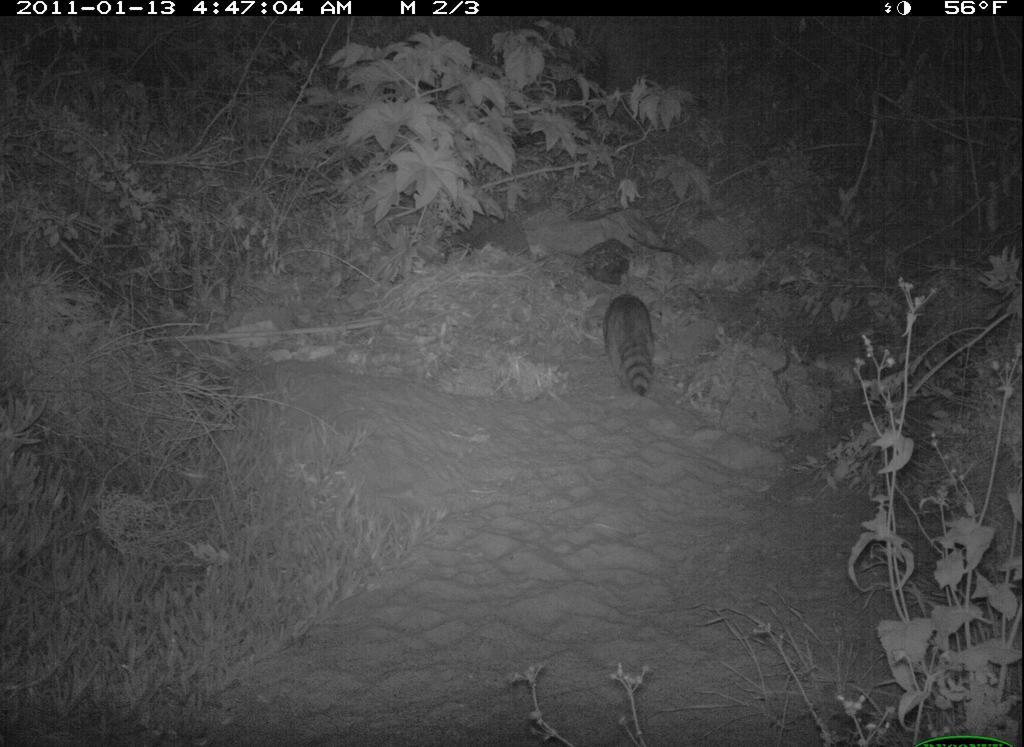raccoon: (594, 291, 666, 406)
